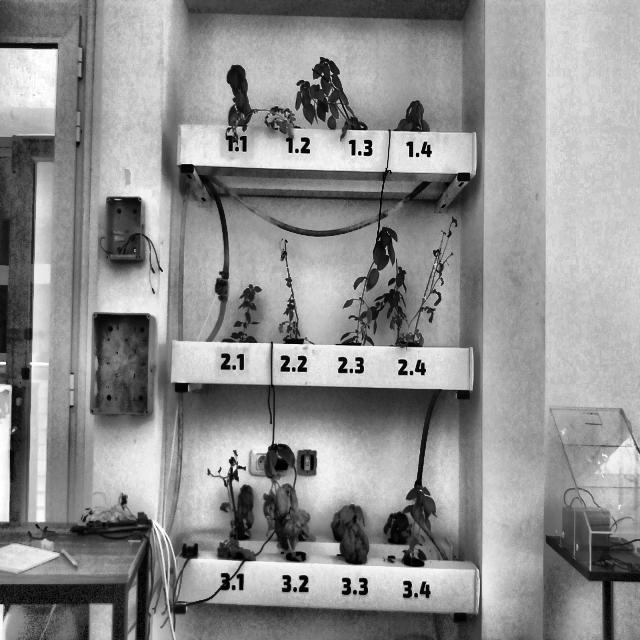plants: (339, 226, 401, 346), (400, 217, 458, 345), (264, 445, 312, 558), (306, 56, 369, 131), (208, 450, 248, 560), (278, 238, 308, 340), (399, 485, 434, 566), (225, 284, 265, 342), (261, 488, 309, 534), (335, 504, 369, 563), (226, 64, 252, 126), (391, 96, 436, 131), (231, 484, 255, 542), (388, 259, 404, 344), (241, 108, 297, 128), (385, 512, 410, 545)
